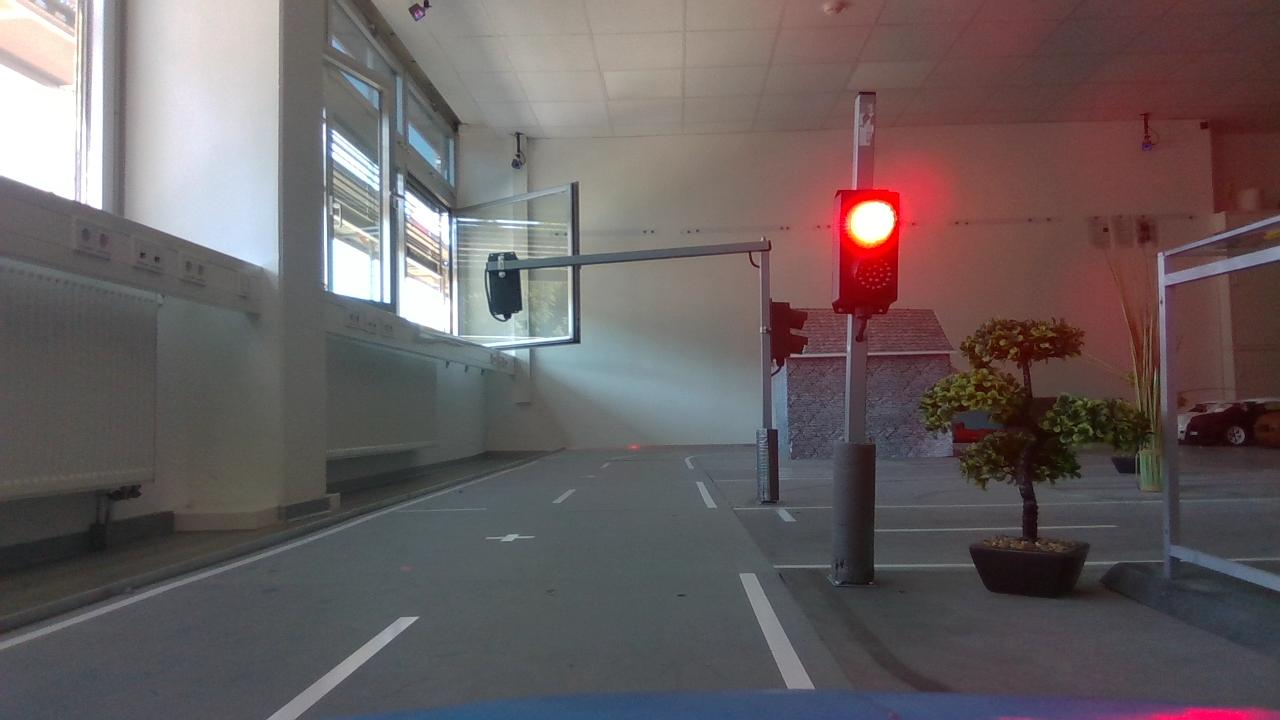traffic_light_red: (813, 176, 923, 331)
